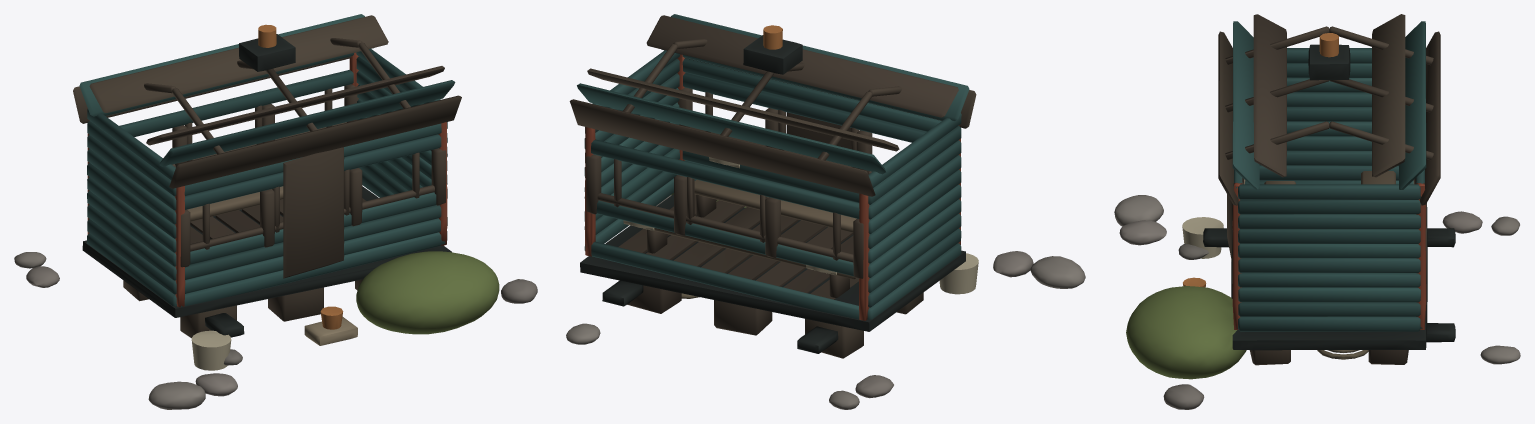
File: tram_car_parked_c_lod1.glb
3 views of the same model, side by side, from view 1: azimuth 30°, elevation 25°; view 2: azimuth 150°, elevation 25°; view 3: azimuth 270°, elevation 25° (orthographic). The views are drawn at different scales.
Visible parts, largest first — view 1: Surface.001; view 2: Surface.001; view 3: Surface.001.
Boxes of the visible parts, x1,y1,x2,y2 form: Surface.001: [14, 14, 537, 409]; Surface.001: [566, 14, 1085, 409]; Surface.001: [1114, 14, 1520, 409].
Size of the model in its own units: 6.96 by 4.42 by 5.79.
